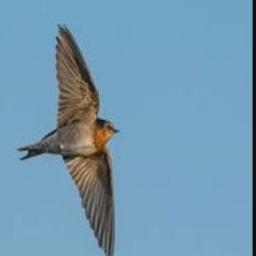Swallow: (18, 22, 121, 256)
